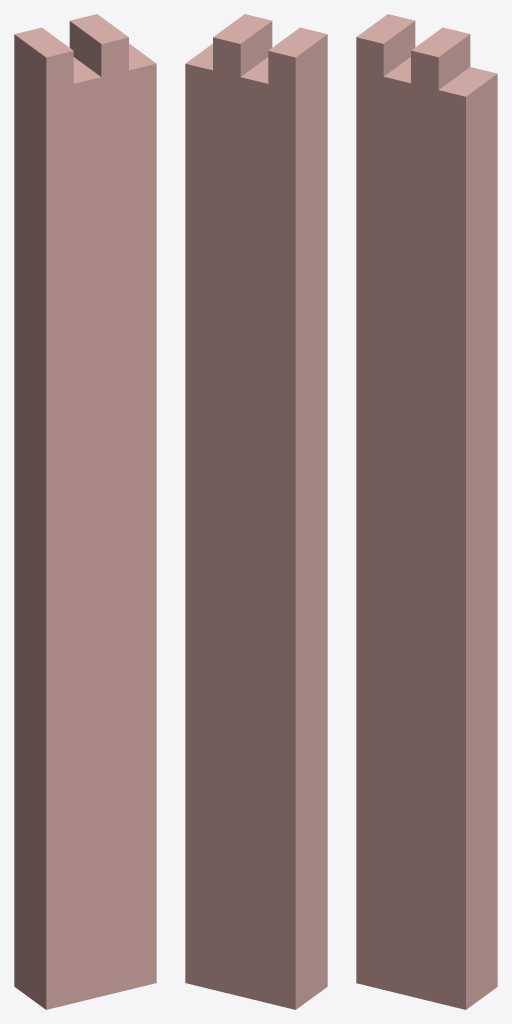
Rendered from Wall_Gridded.fbx.
3 views of the same model, side by side, from view 1: azimuth 30°, elevation 25°; view 2: azimuth 150°, elevation 25°; view 3: azimuth 330°, elevation 25° (orthographic).
Visible parts, largest first — view 1: Gridded_Wall; view 2: Gridded_Wall; view 3: Gridded_Wall.
Boxes of the visible parts, box(x1,y1,x2,y2) form: Gridded_Wall: box(14, 14, 156, 1009); Gridded_Wall: box(185, 14, 327, 1009); Gridded_Wall: box(356, 14, 497, 1009).
Bounding box in the file's own units: 500 × 4117 × 250.
